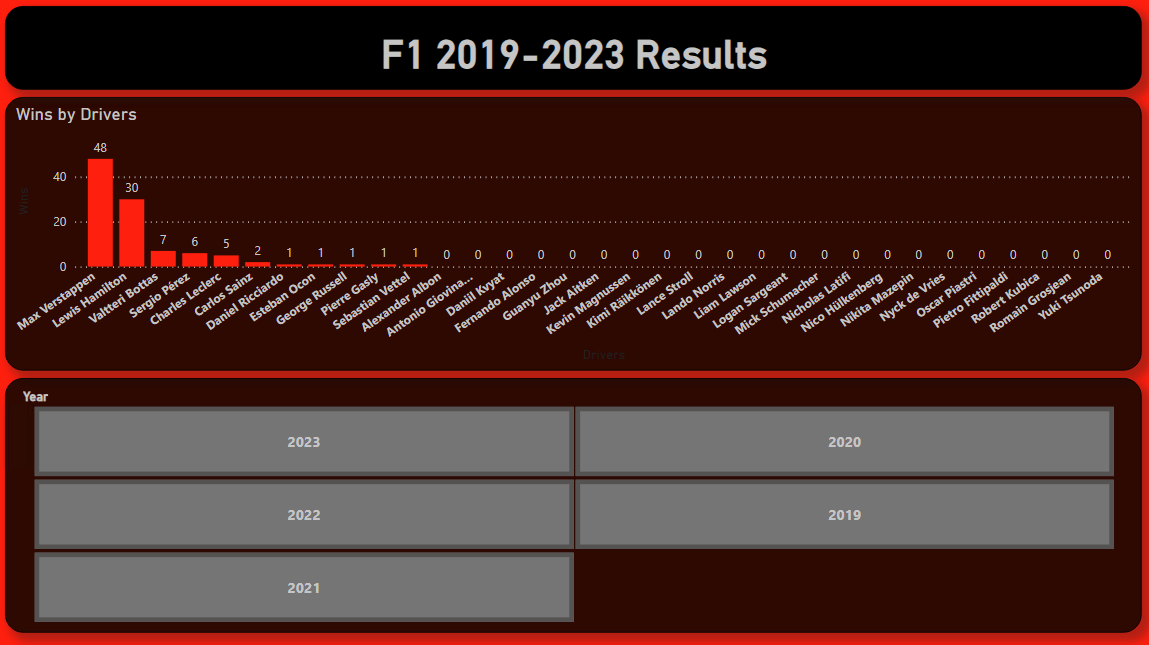

The dashboard page shown, as its layout file describes it:
{"tool":"powerbi","page":{"name":"Wins","canvas":[1280,720],"ordinal":0},"visuals":[{"type":"clusteredColumnChart","fields":{"Category":["Drivers.Driver.2"],"Y":["Wins.Wins"]},"box":[7.8,108.9,1263.3,304.4],"z":0},{"type":"textbox","box":[7.8,7.8,1263.3,93.3],"z":1000},{"type":"slicer","fields":{"Values":["Wins.Year"]},"box":[7.8,421.1,1263.3,283.3],"z":2000}]}

Visuals, with their boxes in screenshot pixels (x1, y1, x2, y2), scaled from the page's 1280x720 canvas onto the 1149x645 screenshot:
clusteredColumnChart - Drivers.Driver.2 x Wins.Wins: [x1=7, y1=98, x2=1141, y2=370]
textbox: [x1=7, y1=7, x2=1141, y2=91]
slicer - Wins.Year: [x1=7, y1=377, x2=1141, y2=631]
